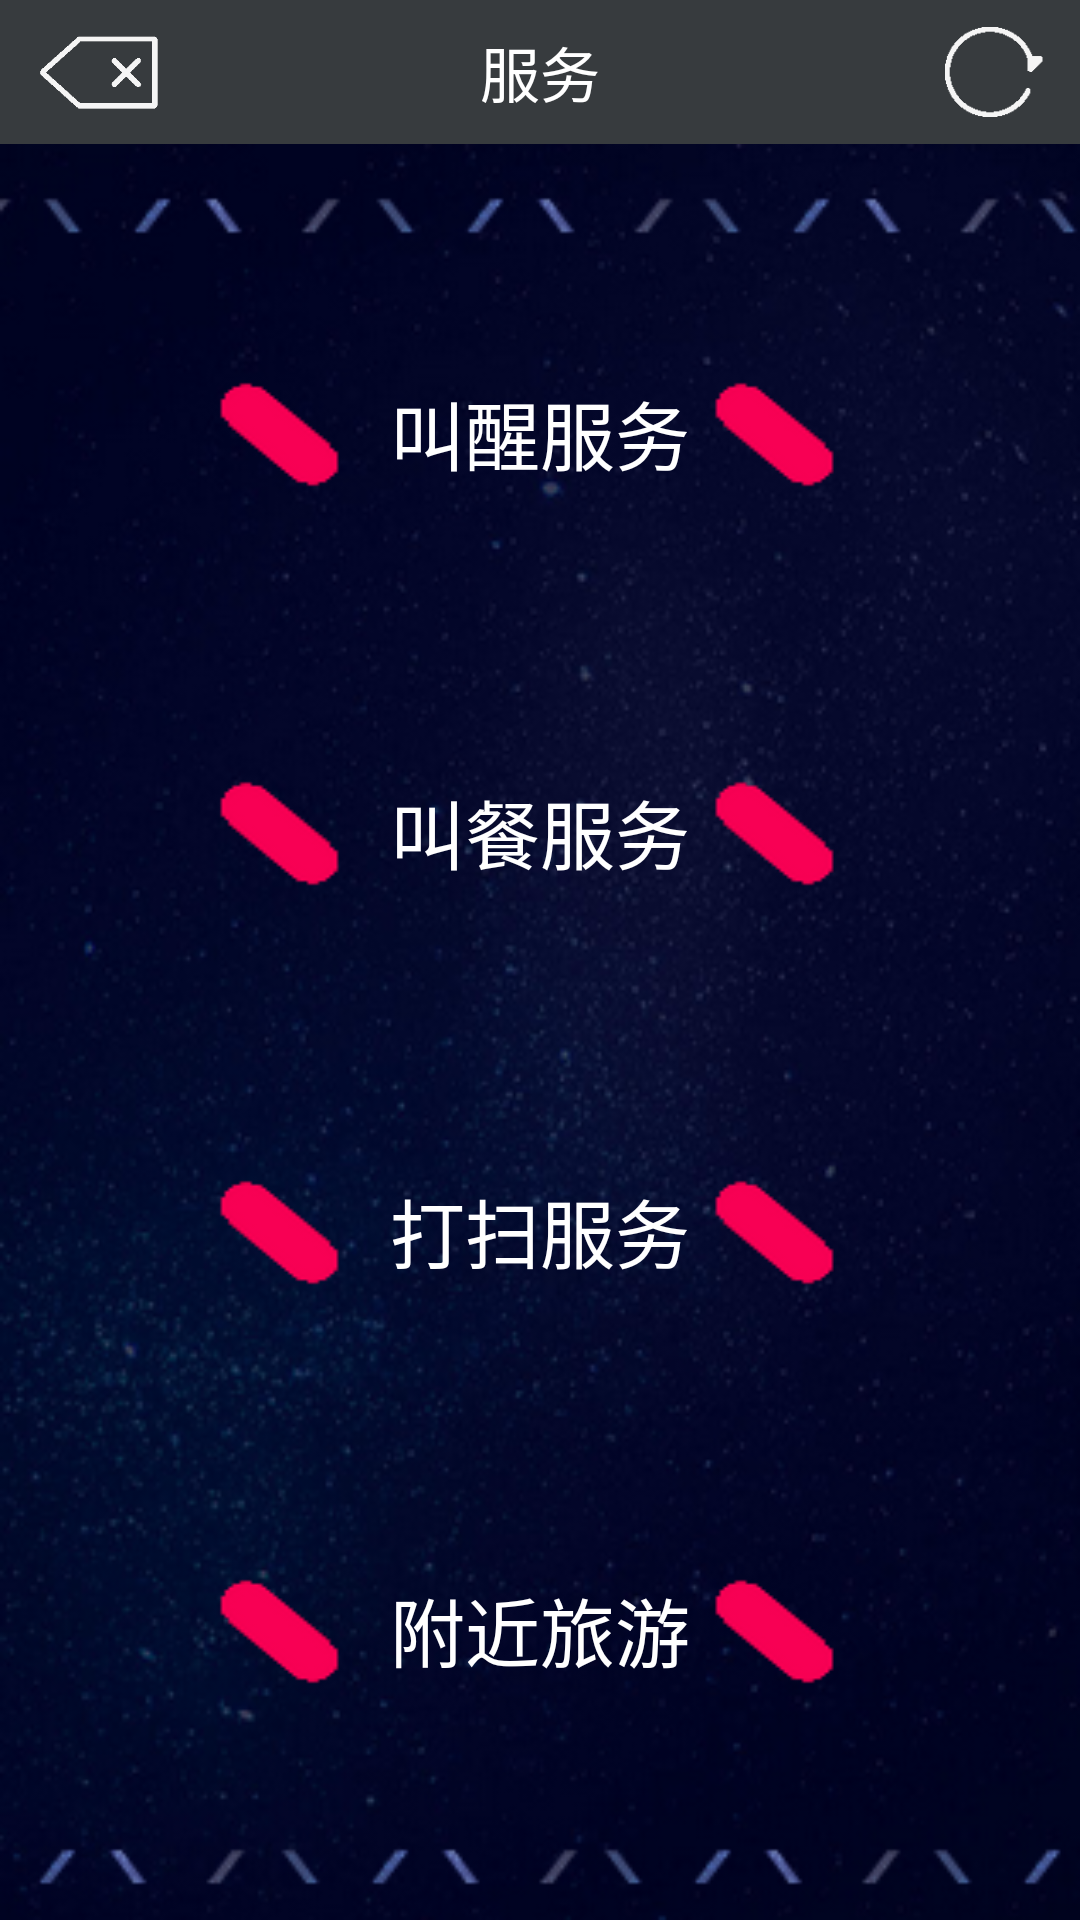

Screen size 1080px x 1920px. Icon name, then its box in pixels as (x1, y1, x2, y2):
shuaxin: (945, 27, 1043, 117)
